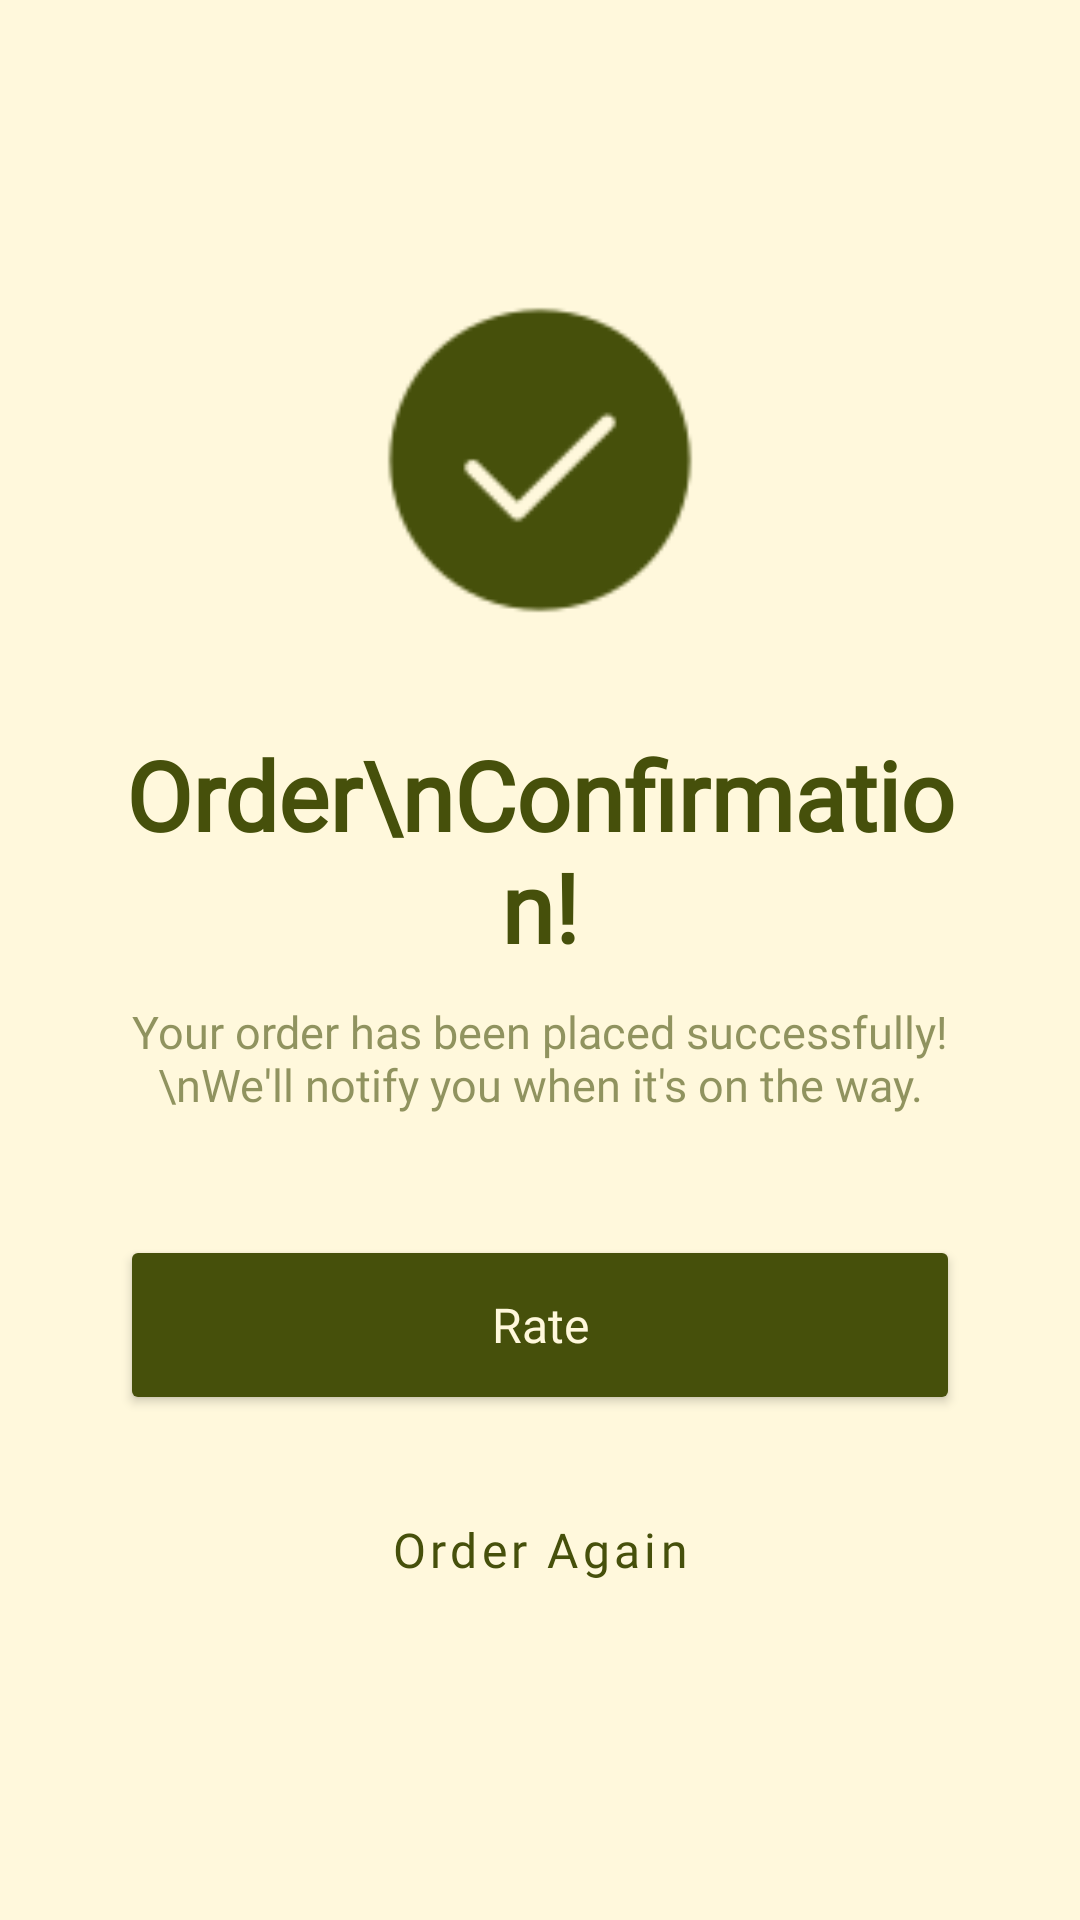

Where to tap for icons on this 1080×1920 app screen, as point (x, y):
Success Icon: point (540, 460)
